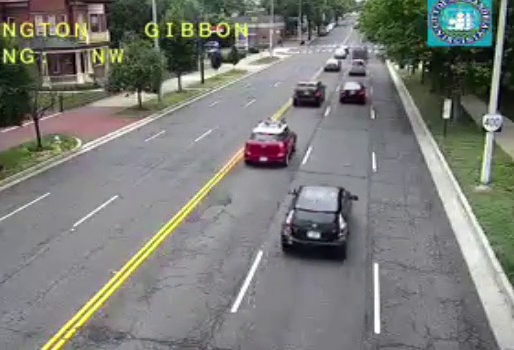car: (282, 184, 352, 253), (245, 122, 297, 164), (293, 81, 325, 105), (338, 81, 365, 101)
